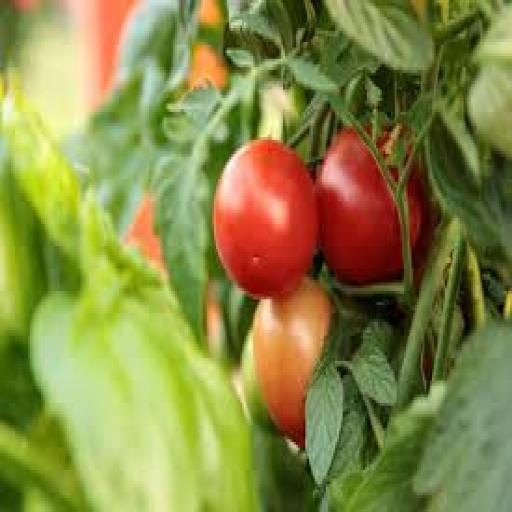tomato: (215, 140, 318, 296), (317, 129, 402, 285), (254, 277, 331, 447), (125, 194, 165, 271), (241, 333, 271, 428), (189, 42, 229, 89), (198, 0, 223, 27), (14, 0, 40, 11)
